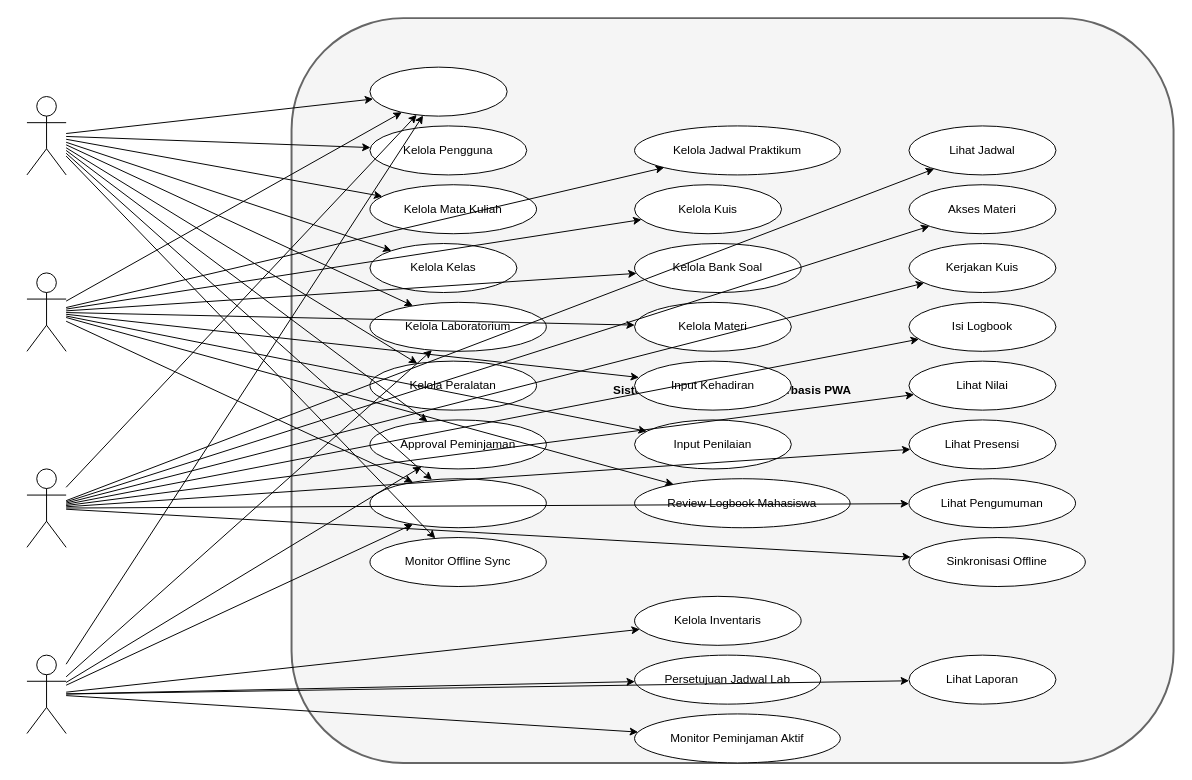
Image size: 1192x780. Some labels were removed from this diagram. Here are the shapes that lost their labels. From the top down, the centre of each, then its label:
At [438,91]: "Login".
At [46,135]: "Admin".
At [46,311]: "Dosen".
At [46,507]: "Mahasiswa".
At [457,503]: "Kelola Pengumuman".
At [46,694]: "Laboran".
